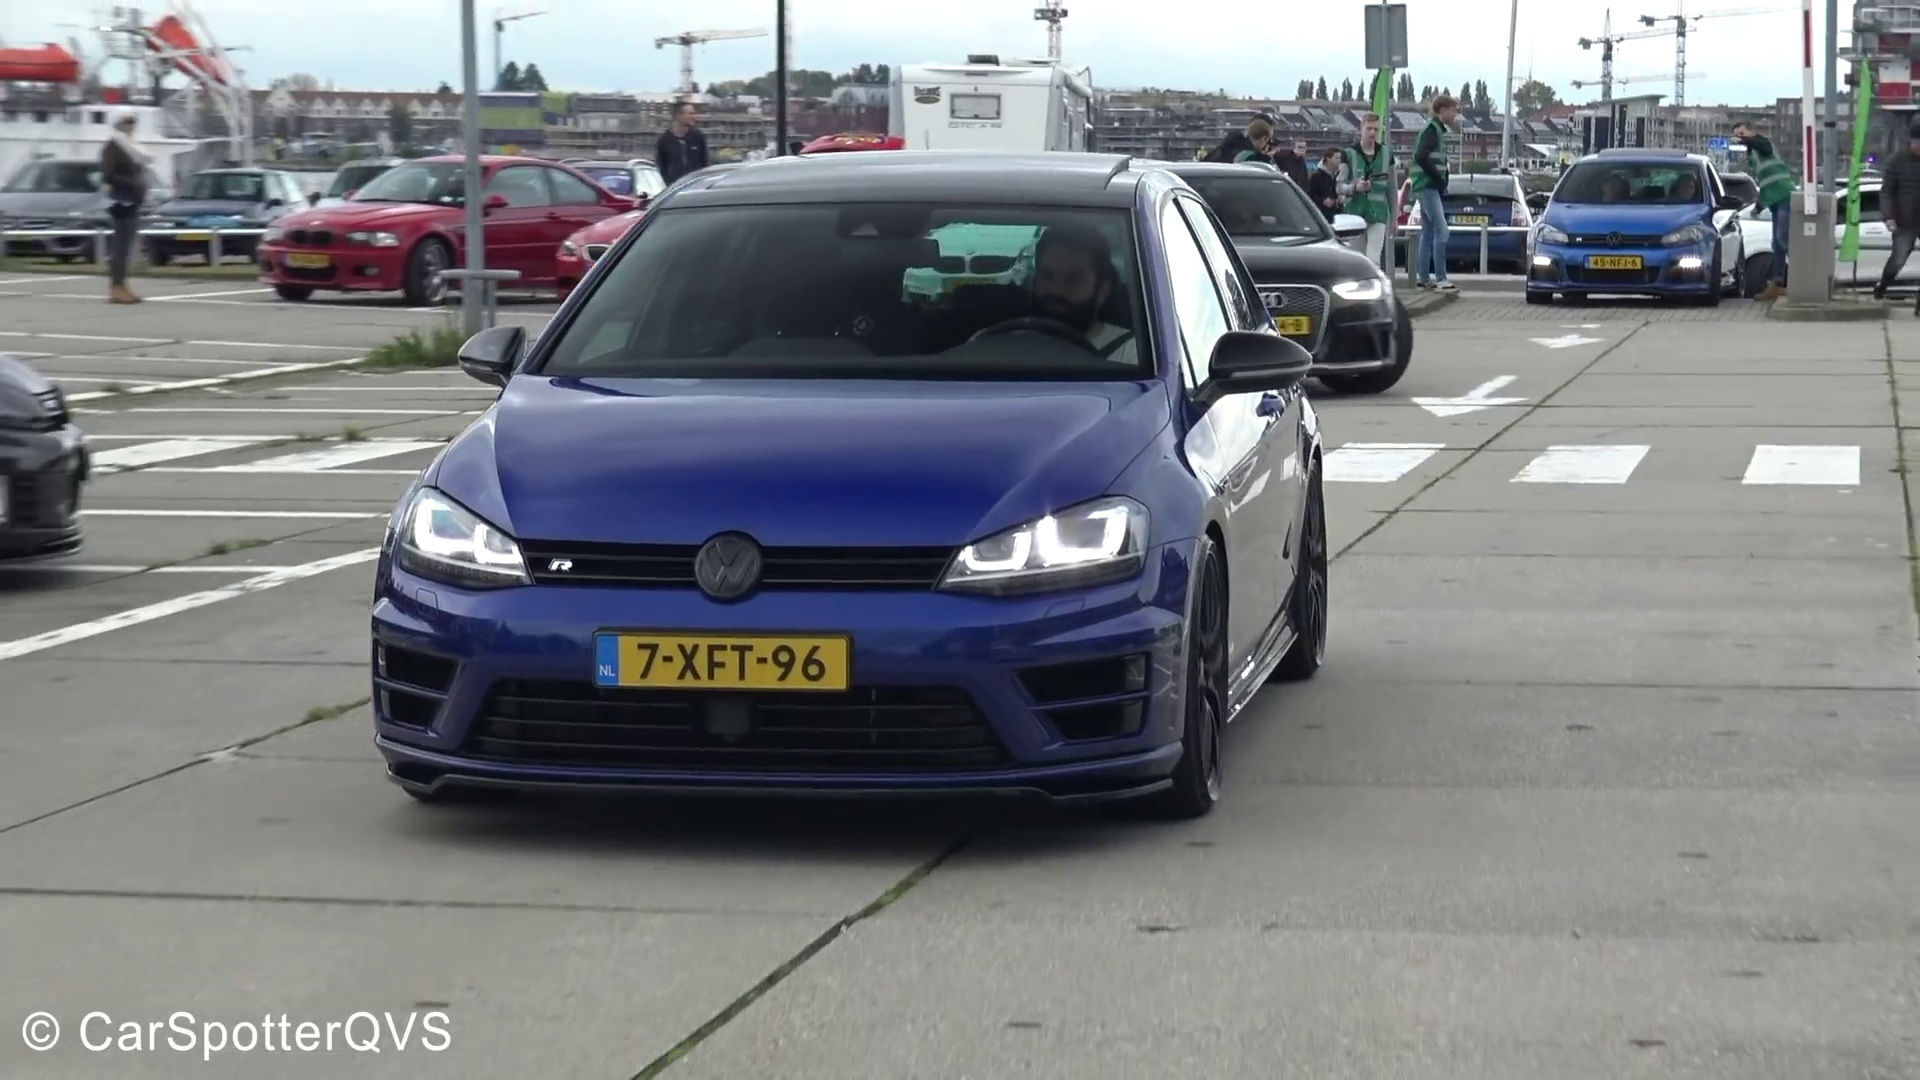number_plate: (582, 622, 853, 691)
